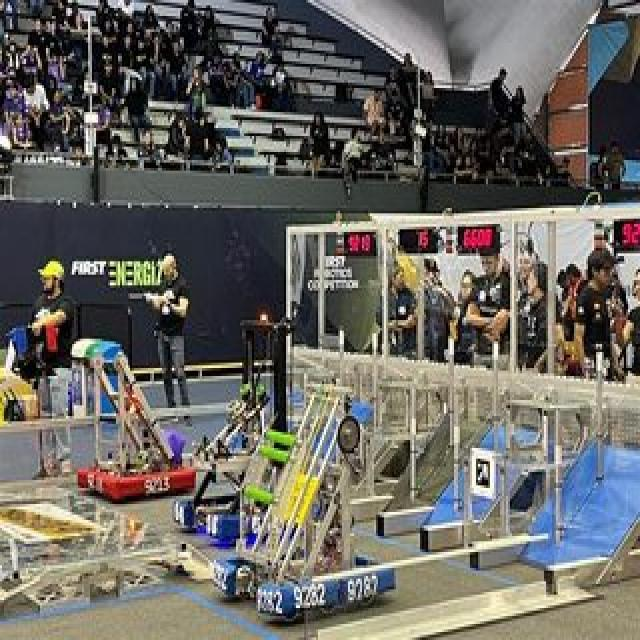robot: (204, 376, 398, 618), (164, 310, 304, 552), (70, 324, 196, 503)
